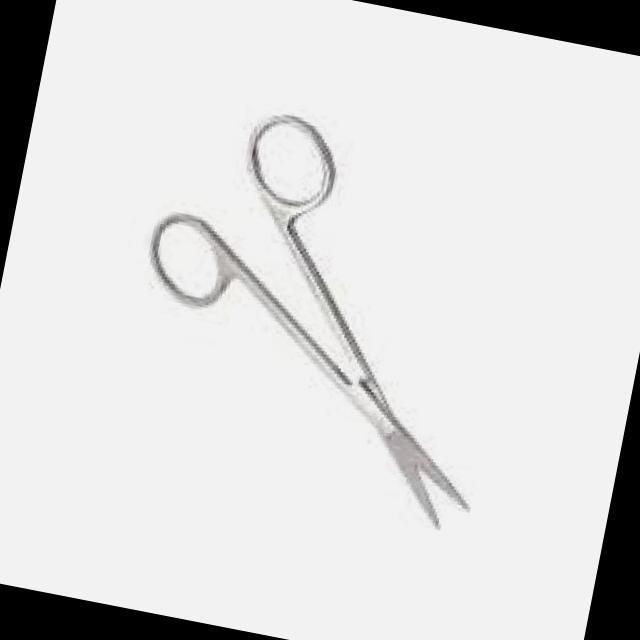Scissors: (92, 78, 562, 560)
